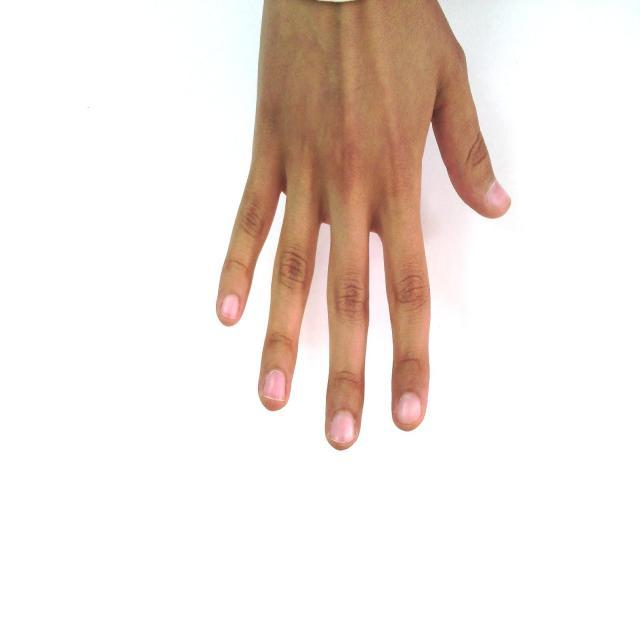Fingernail: (330, 412, 354, 442), (398, 393, 420, 422), (263, 370, 285, 399), (488, 181, 509, 208), (221, 295, 239, 321)
